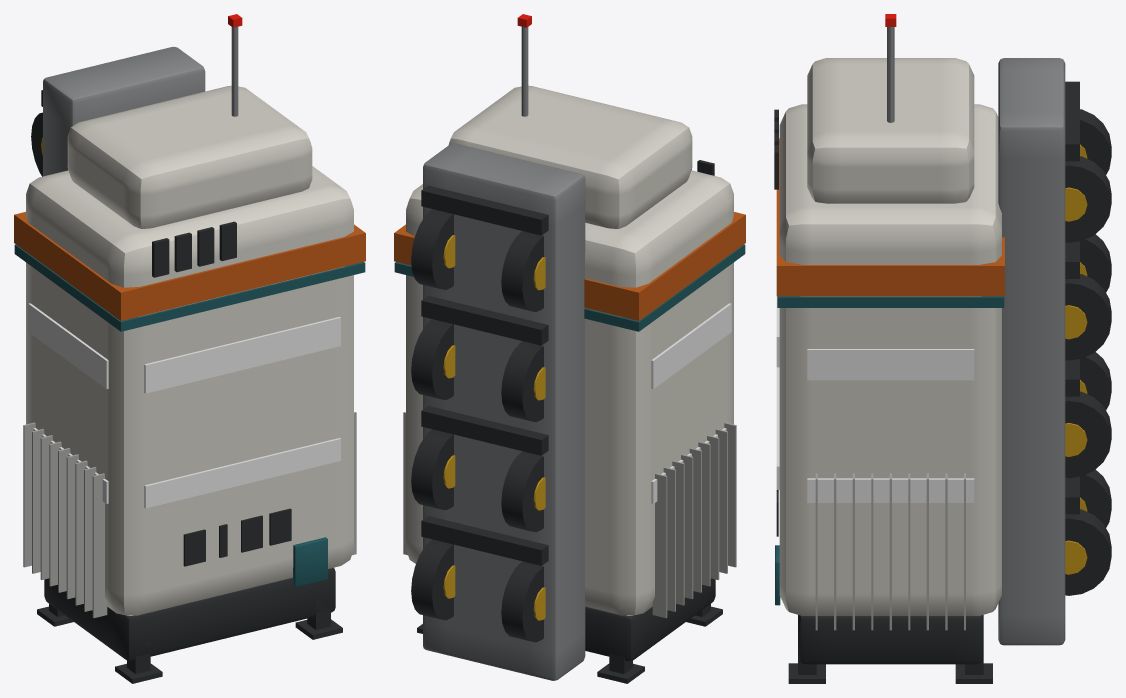
Rendered from climber-car.glb.
3 renders of one model, left to right at view 1: azimuth 30°, elevation 25°; view 2: azimuth 150°, elevation 25°; view 3: azimuth 270°, elevation 25°, orthographic. The views are drawn at different scales.
Visible parts, largest first — view 1: Piece_lod0; view 2: Piece_lod0; view 3: Piece_lod0.
Part boxes in pixels (<box>): Piece_lod0: <box>14,14,365,683</box>; Piece_lod0: <box>394,14,745,683</box>; Piece_lod0: <box>774,14,1111,683</box>.
Size of what is drawn, in the model's own units: 17.5 by 37.85 by 18.18.
